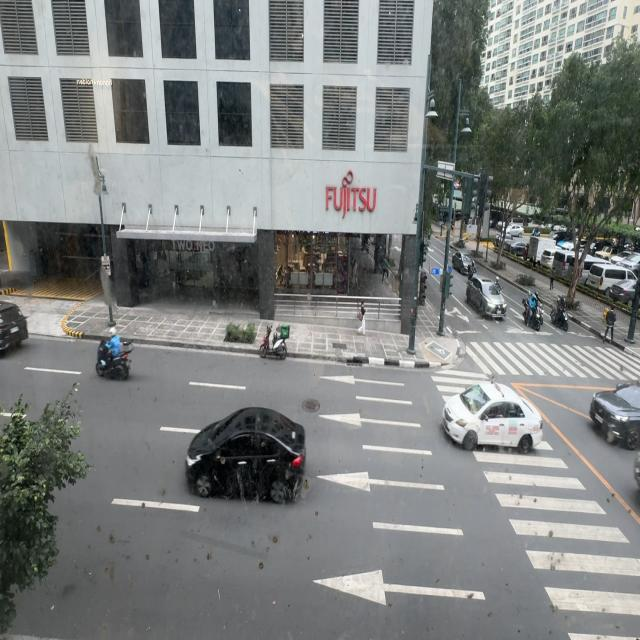pedestrain: (356, 300, 369, 337)
waiting: (602, 302, 619, 346)
